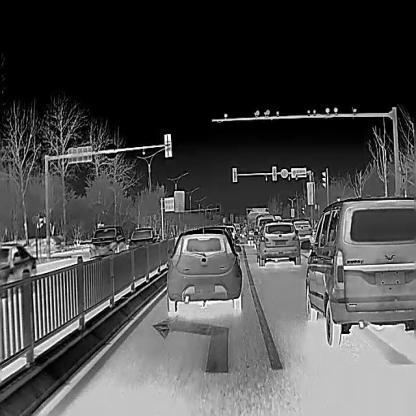car: (299, 197, 415, 346), (165, 231, 243, 312), (256, 222, 301, 266), (0, 242, 36, 296), (88, 226, 126, 260), (245, 207, 269, 245), (254, 214, 275, 248), (126, 228, 158, 249), (292, 219, 311, 247), (222, 223, 237, 239)
